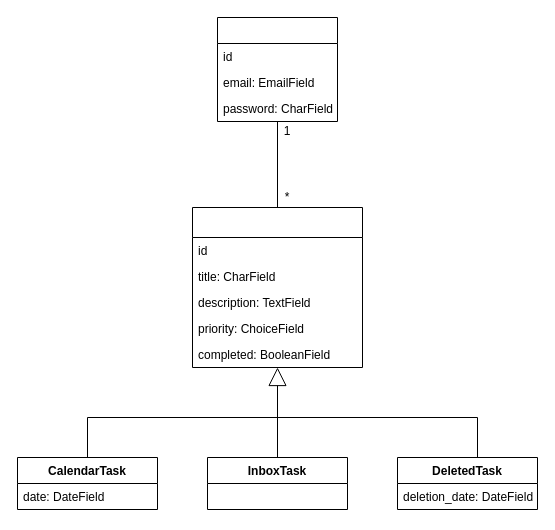
Some shapes in this 555 by 530 pixel diagram are drawn without their labels. Each missing label, with the box of its shape:
User: (216, 16, 338, 122)
«abstract» Task: (192, 206, 362, 368)
